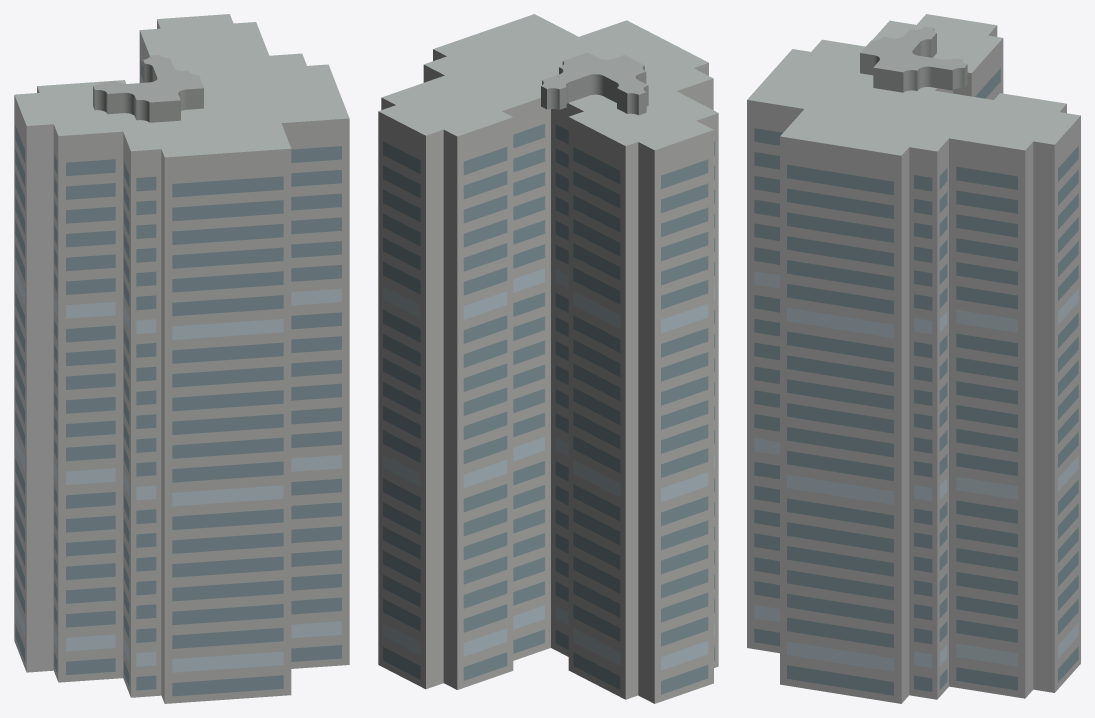
Rendered from fallback-mapo-raemian-prugio-102.glb.
3 renders of one model, left to right at view 1: azimuth 30°, elevation 25°; view 2: azimuth 150°, elevation 25°; view 3: azimuth 270°, elevation 25°, orthographic.
Parts seen in each view (by area): view 1: fallback-mapo-raemian-prugio-102; view 2: fallback-mapo-raemian-prugio-102; view 3: fallback-mapo-raemian-prugio-102.
Part boxes in pixels (bbox=[...]): fallback-mapo-raemian-prugio-102: bbox=[14, 14, 349, 703]; fallback-mapo-raemian-prugio-102: bbox=[378, 14, 718, 703]; fallback-mapo-raemian-prugio-102: bbox=[747, 14, 1080, 703].
Bounding box in the file's own units: 35.83 × 67 × 35.66.
